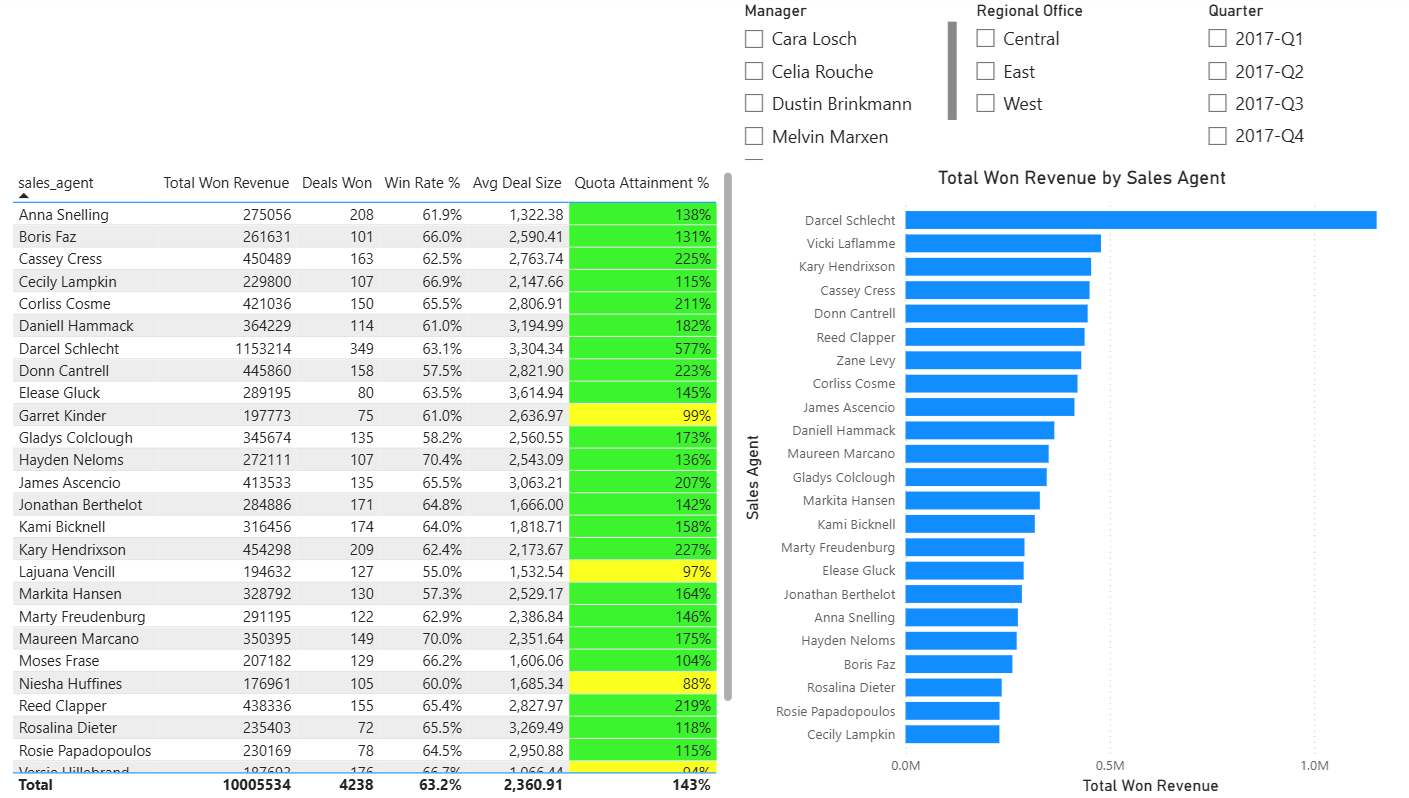

This screenshot's page, from the dashboard's own definition file:
{"tool":"powerbi","page":{"name":"Sales Team Performance","canvas":[1280,720],"ordinal":1},"visuals":[{"type":"slicer","fields":{"Values":["sales_pipeline.Quarter"]},"box":[1072,0,208,152],"z":0},{"type":"tableEx","fields":{"Values":["sales_teams.sales_agent","_Measures.Total Won Revenue","_Measures.Deals Won","_Measures.Win Rate %","_Measures.Avg Deal Size","_Measures.Quota Attainment %"]},"box":[8,152,656,568],"z":1000},{"type":"clusteredBarChart","fields":{"Category":["sales_teams.sales_agent"],"Y":["_Measures.Total Won Revenue"]},"box":[664,152,616,568],"z":2000},{"type":"slicer","fields":{"Values":["sales_teams.manager"]},"box":[656,0,208,152],"z":3000},{"type":"slicer","fields":{"Values":["sales_teams.regional_office"]},"box":[864,0,208,152],"z":4000}]}

Visuals, with their boxes in screenshot pixels (x1, y1, x2, y2), scaled from the page's 1280x720 canvas onto the 1409x798 screenshot:
slicer - sales_pipeline.Quarter: left=1180, top=0, right=1408, bottom=168
tableEx - sales_teams.sales_agent x _Measures.Total Won Revenue: left=9, top=168, right=731, bottom=797
clusteredBarChart - sales_teams.sales_agent x _Measures.Total Won Revenue: left=731, top=168, right=1408, bottom=797
slicer - sales_teams.manager: left=722, top=0, right=951, bottom=168
slicer - sales_teams.regional_office: left=951, top=0, right=1180, bottom=168
